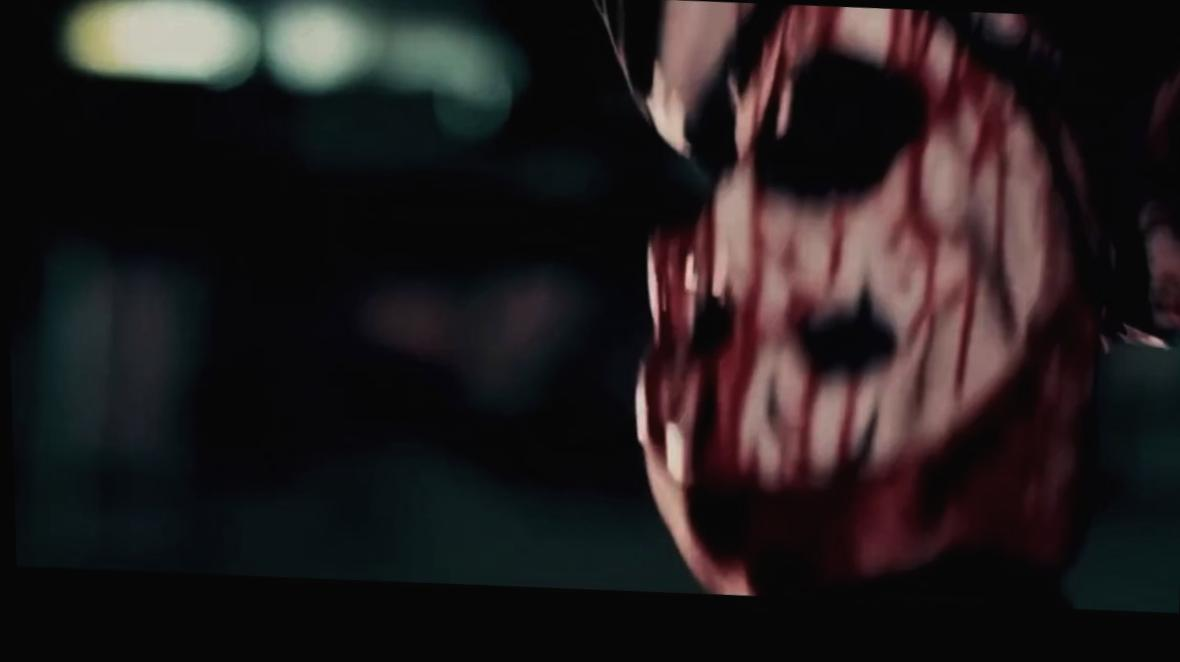Fire: (633, 10, 1114, 600)
